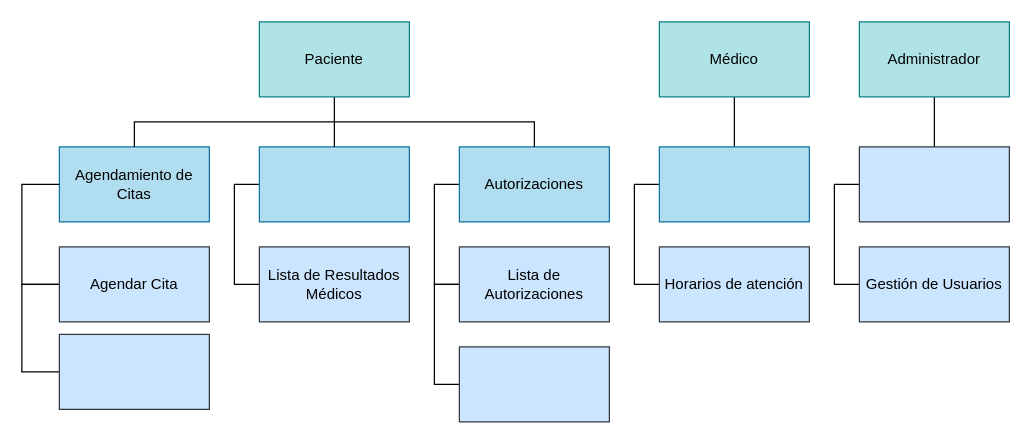
The diagram is 1031 pixels wide and 444 high, and some of its shapes have lost their labels. The shapes that lost their labels are listed below. From the top down, each one's centre as x and y in pixels, then its label:
(x=333, y=184): Resultados Médicos
(x=733, y=184): Consulta de Citas Médicas
(x=933, y=184): Reporte de Citas Médicas
(x=133, y=371): Historial de Citas
(x=533, y=384): Solicitar Autorización
